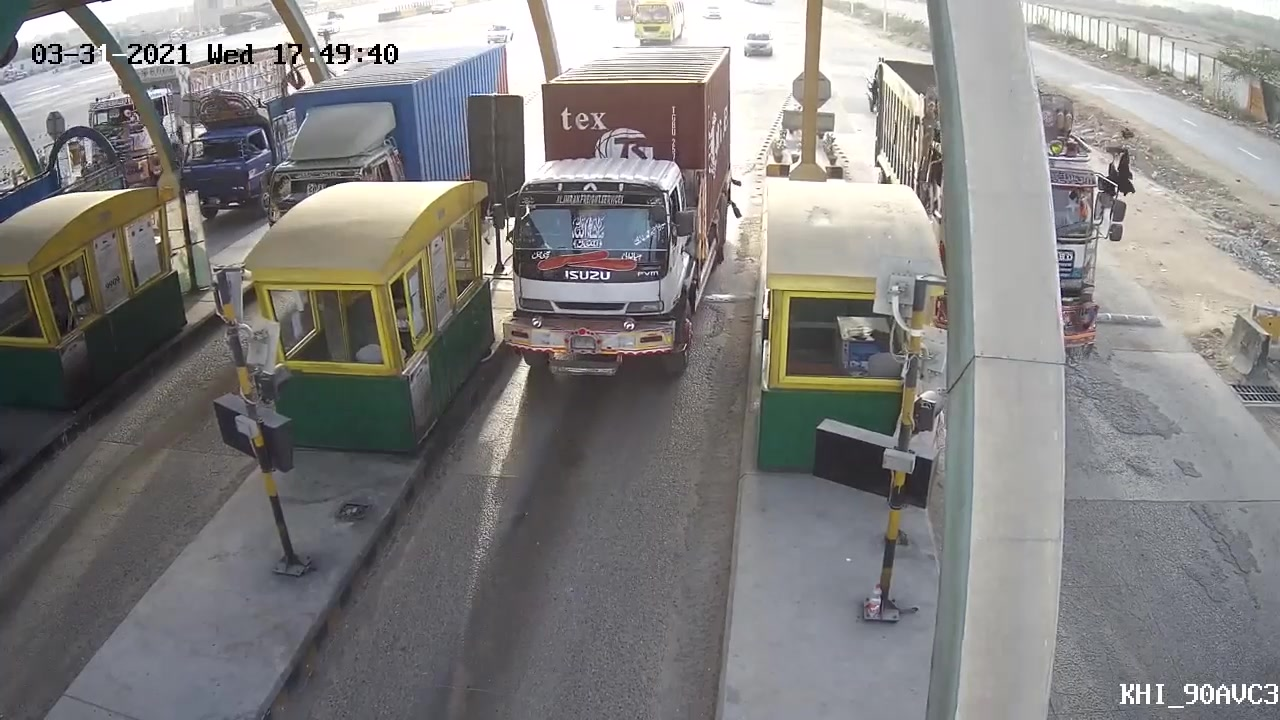F5: (504, 38, 739, 409)
